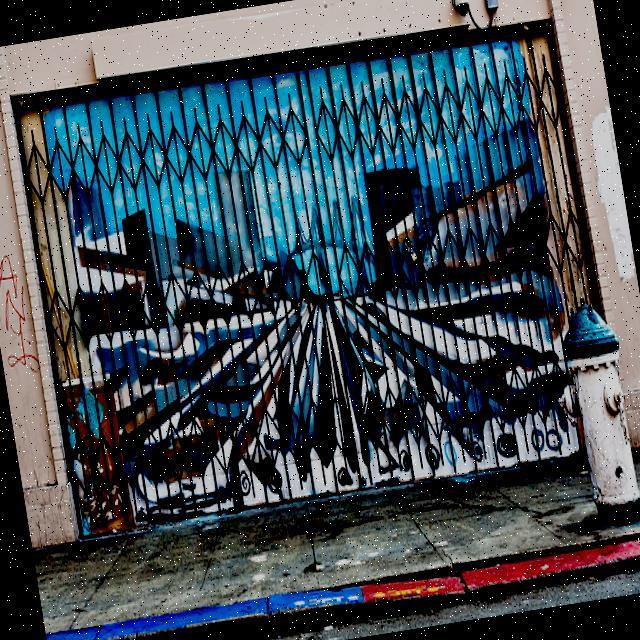fire_hydrant: (543, 290, 640, 530)
